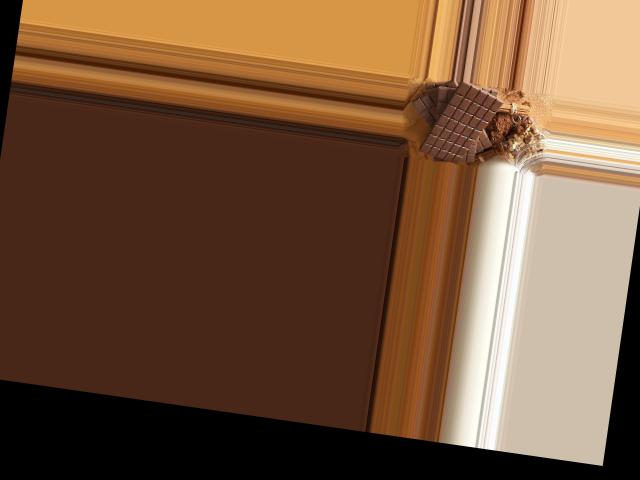chocolate: (417, 76, 509, 166)
